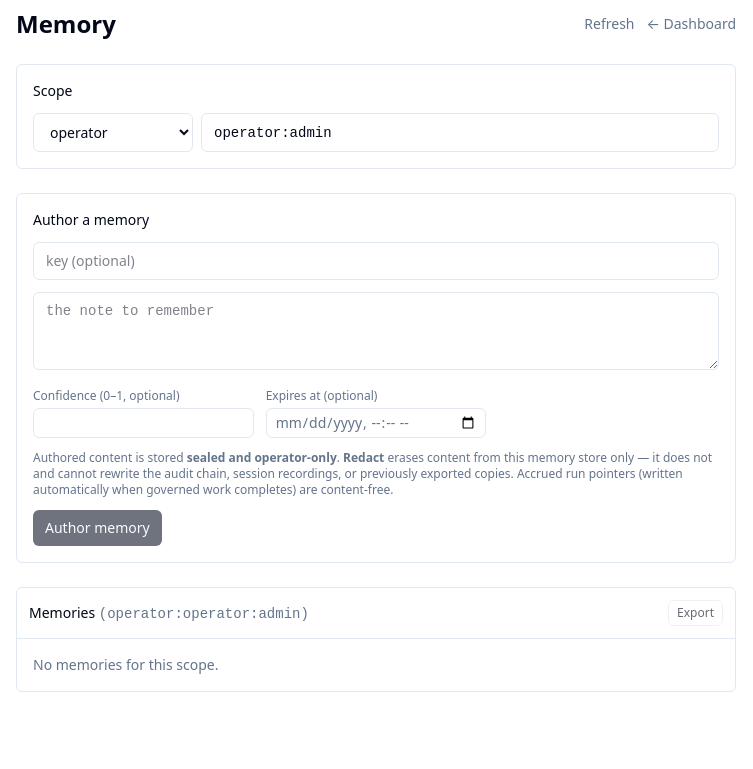
Memories route › surfaces a 422 error from the authoring form
Expected: the text "No memories for this scope." is shown, [33,655,218,674]
Type "x" into the text box named "content". click: coordinates (376, 331)
box: [33,292,719,370]
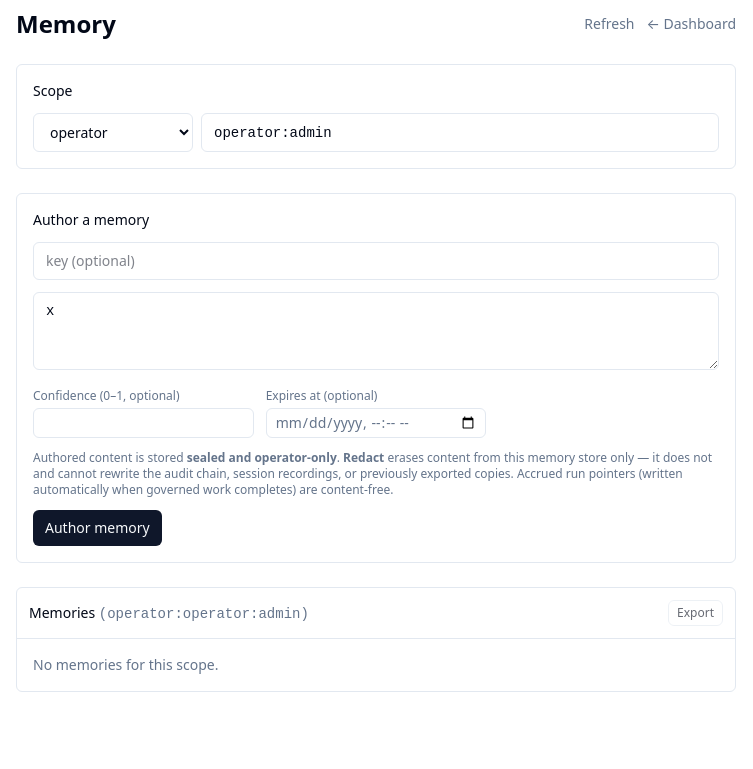
Click the button "Author memory". click: coordinates (97, 528)
box: [33,510,162,546]
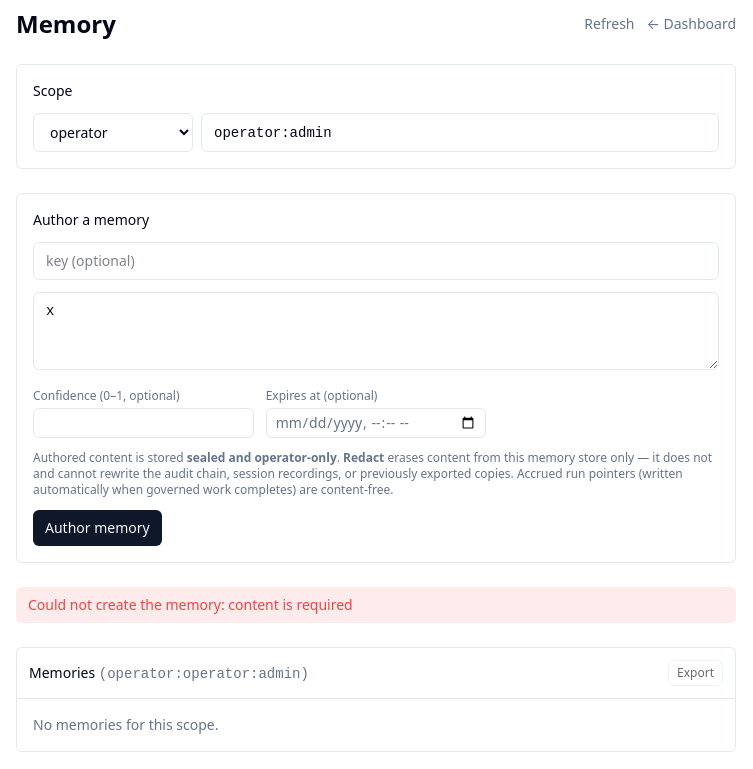
Now the message shows "content is required", box [28,595,353,614]
